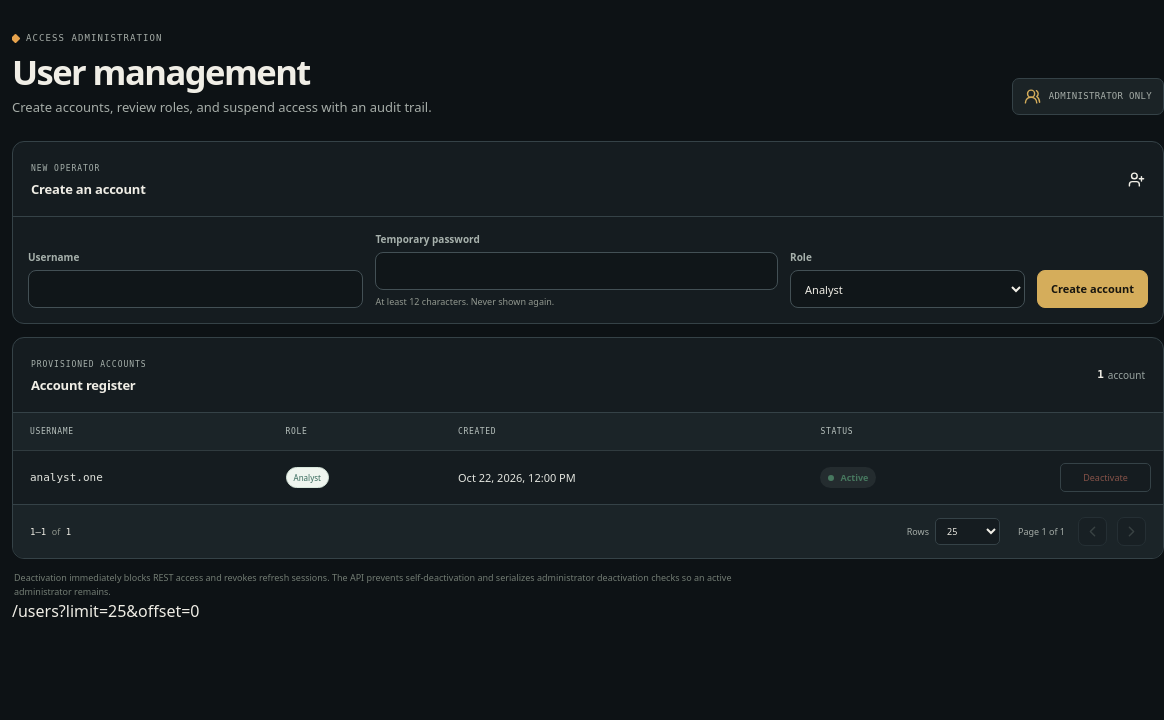
Test: overview and capture history dashboard › lists accounts and updates their active status through the admin API
Click the button with aria-label "Deactivate analyst.one" at (1106, 478), box [1060, 463, 1151, 492]
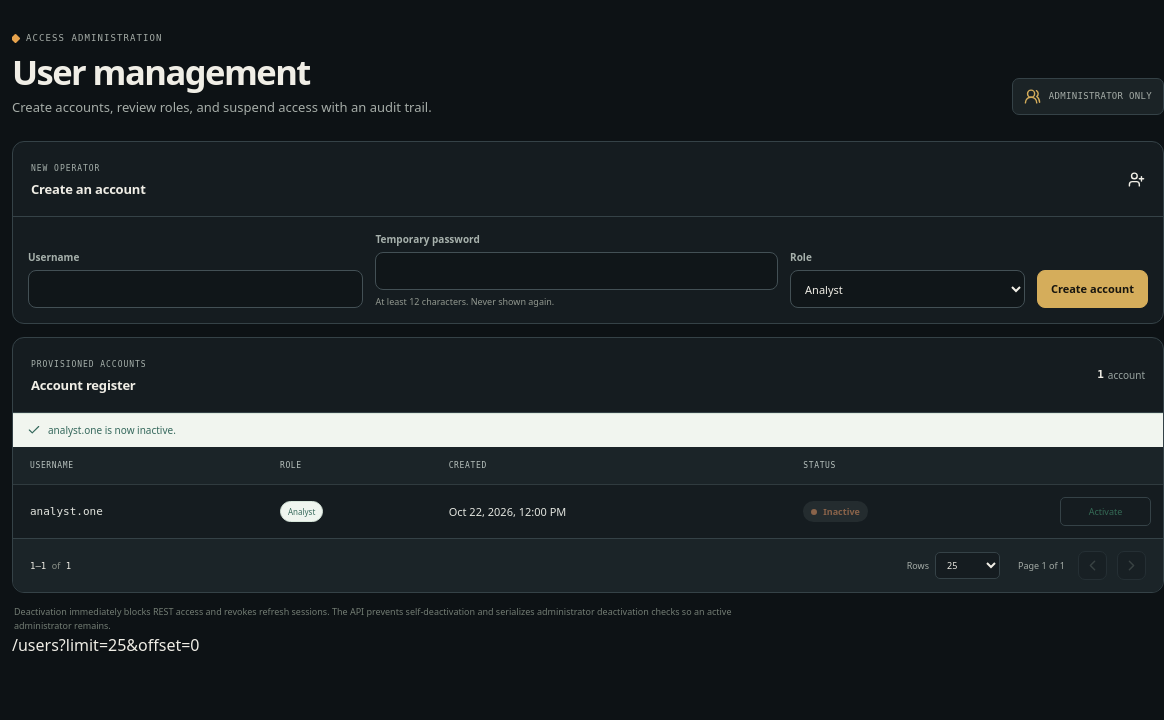
Expected: the text "analyst.one is now inactive." is shown, [13, 413, 1163, 447]
